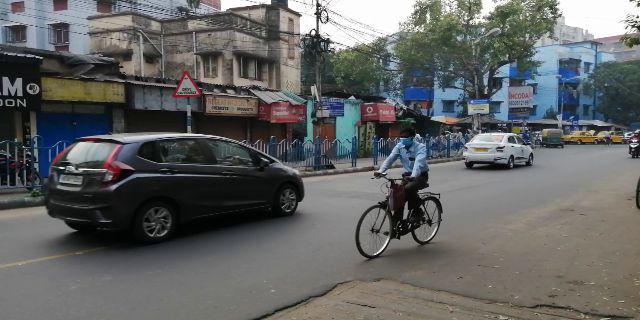Car: (53, 131, 307, 241), (468, 133, 539, 170)
Cycle: (351, 127, 445, 257)
